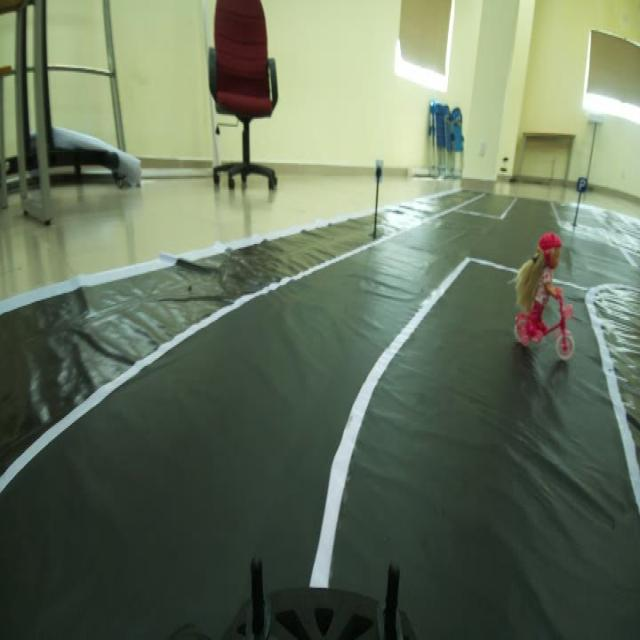pedestrian: (512, 223, 578, 369)
